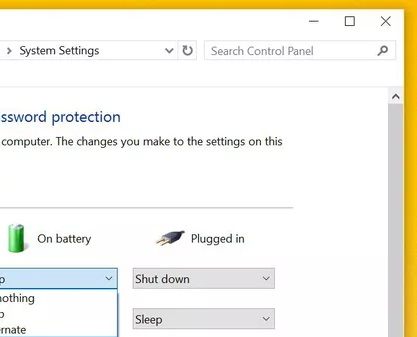close: (370, 9, 400, 30)
